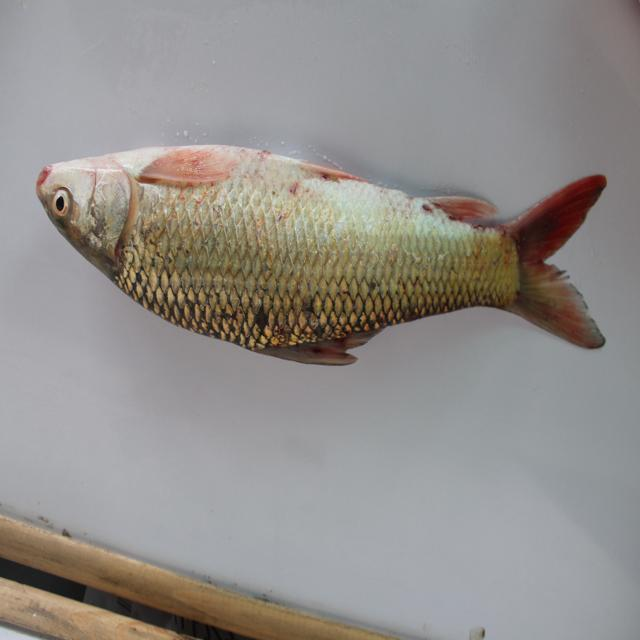Grass Carp: (32, 143, 611, 377)
